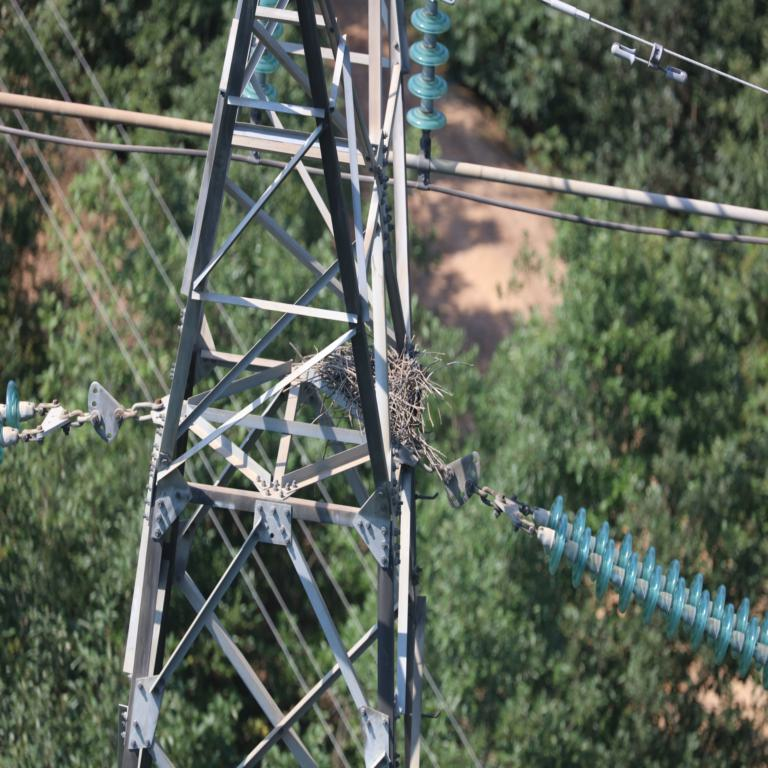nest: (309, 343, 437, 452)
